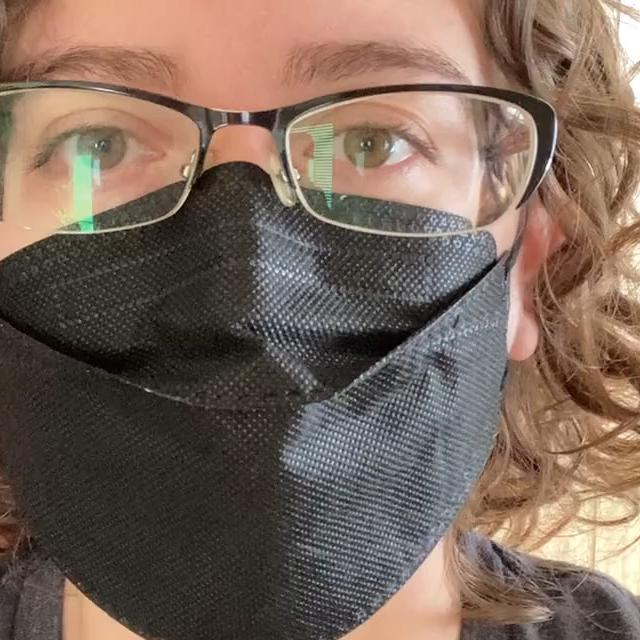Mask: (0, 178, 534, 640)
Person: (0, 0, 640, 640)
